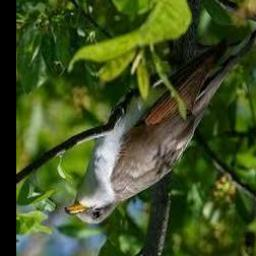Cuckoo: (65, 40, 239, 226)
